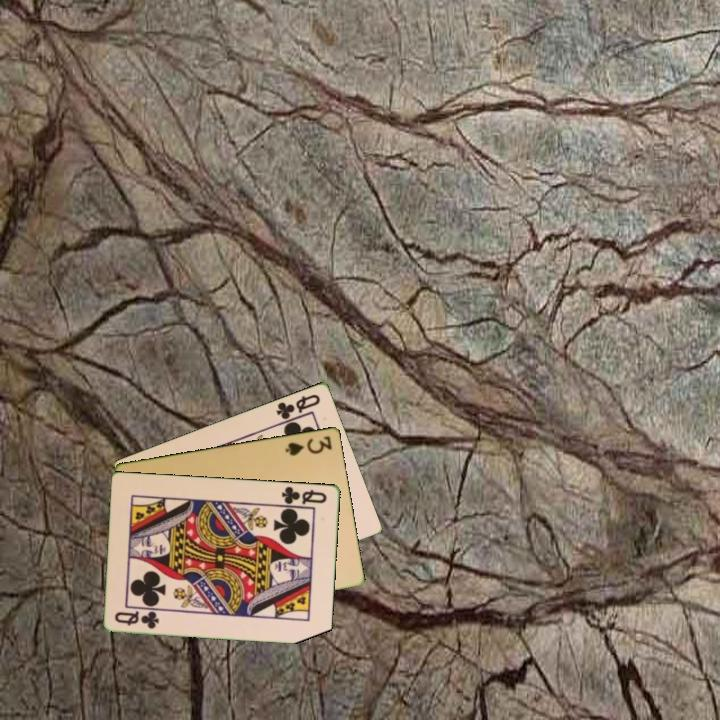3s: (282, 432, 335, 458)
Qc: (273, 390, 323, 426), (278, 482, 330, 507), (111, 607, 162, 631)
